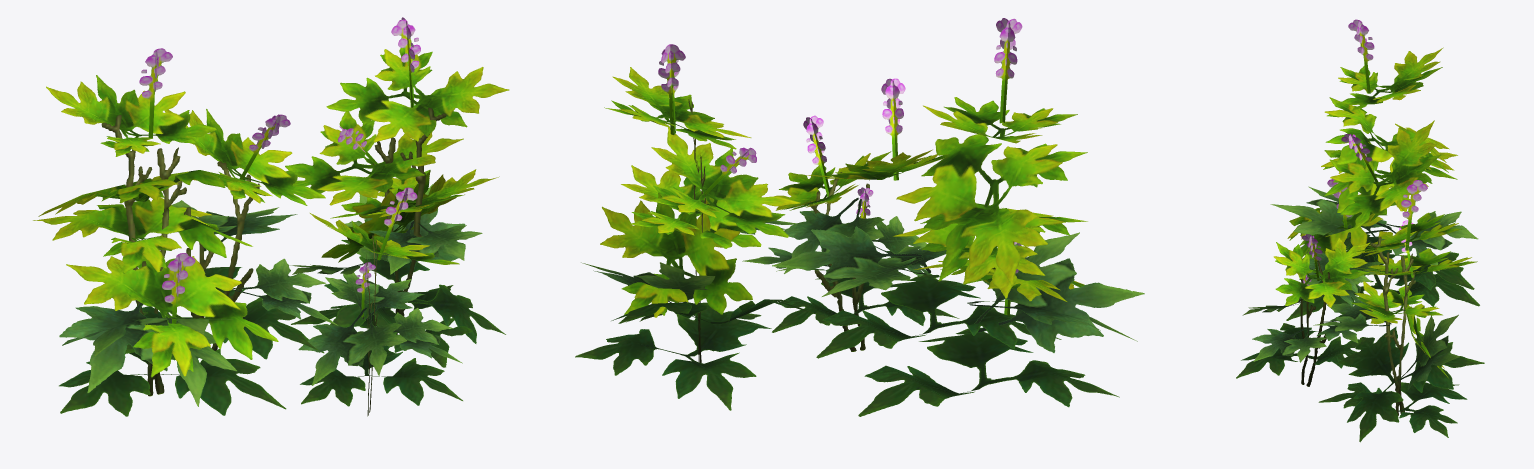
The model's file is wm_灌木洛阳城大灌04.fbx.
3 views of the same model, side by side, from view 1: azimuth 30°, elevation 25°; view 2: azimuth 150°, elevation 25°; view 3: azimuth 270°, elevation 25° (orthographic). The views are drawn at different scales.
Visible parts, largest first — view 1: wm_灌木洛阳城大灌04; view 2: wm_灌木洛阳城大灌04; view 3: wm_灌木洛阳城大灌04.
Part boxes in pixels (x1,y1,x2,y2): wm_灌木洛阳城大灌04: (33,17,509,416); wm_灌木洛阳城大灌04: (575,18,1144,416); wm_灌木洛阳城大灌04: (1236,19,1484,442).
Size of the model in its own units: 252 by 186 by 170.
